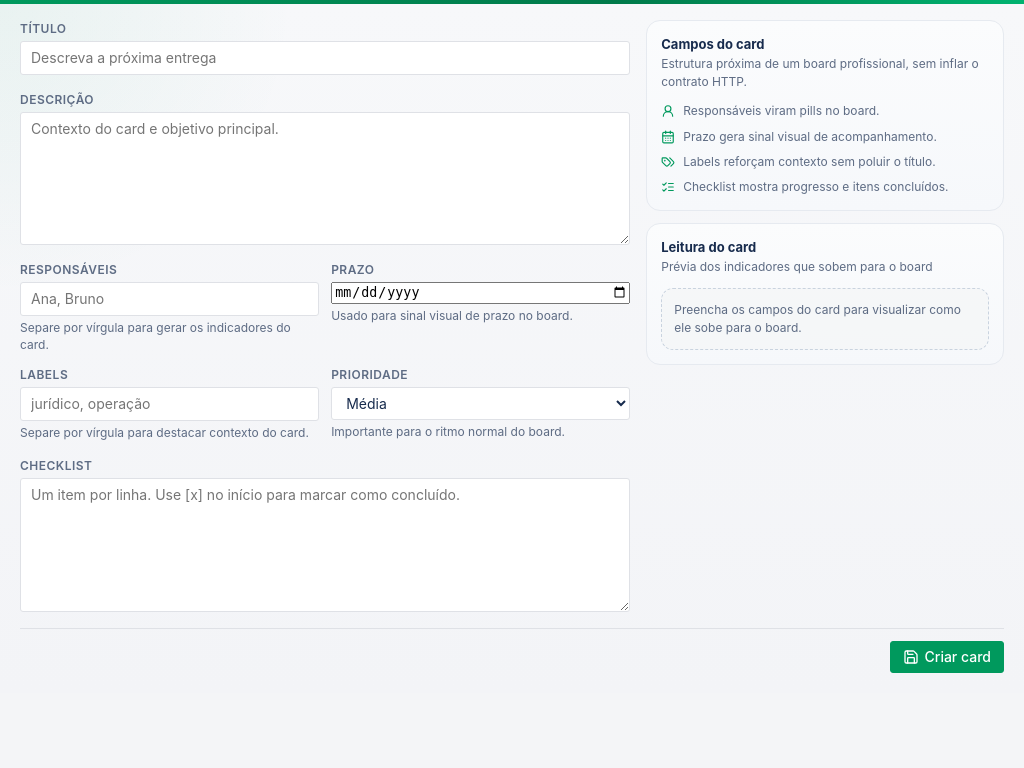
it: TaskComposer › renders the preview even when only deadline and labels are present
Type "2026-04-25" into the date field labelled "Prazo" at coordinates (481, 293), box x1=331 y1=282 x2=630 y2=304
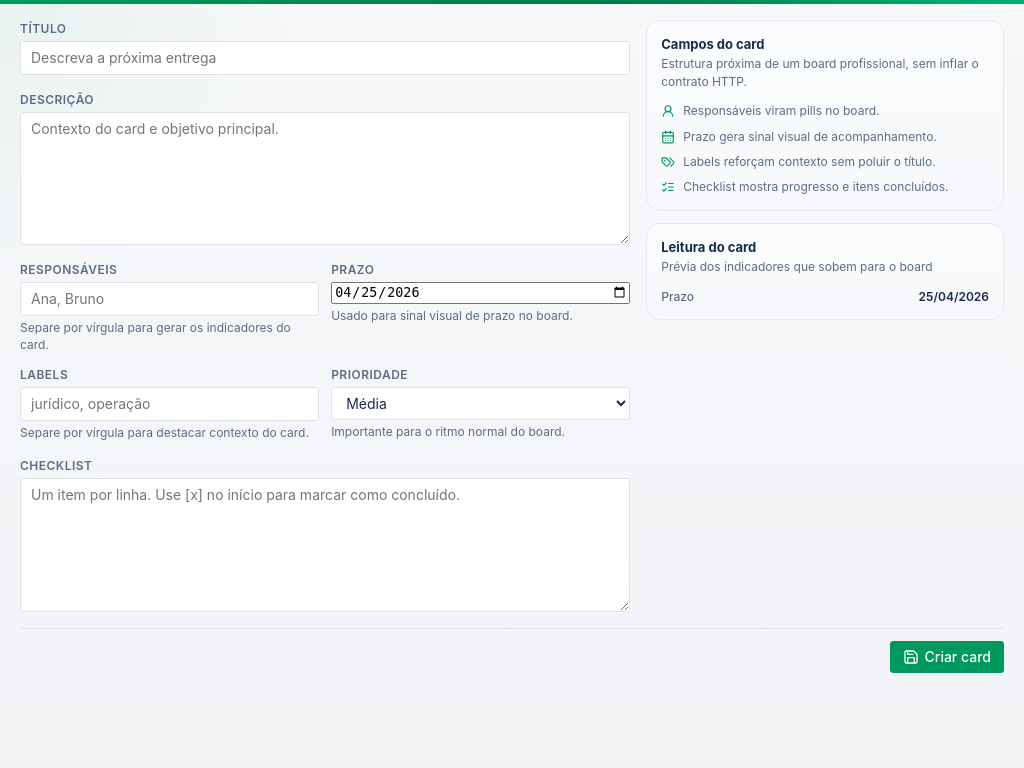
Type "operação" into the field labelled "Labels" at coordinates (170, 404), box x1=20 y1=387 x2=319 y2=421
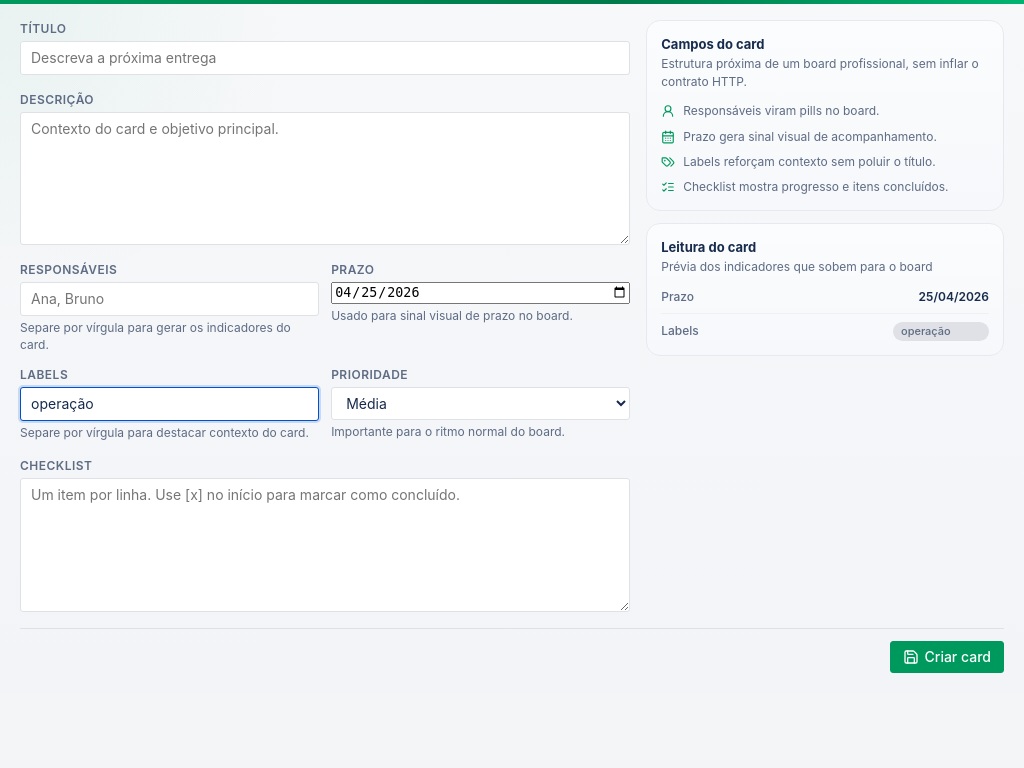
Result: the text "25/04/2026" is shown at x1=919 y1=288 x2=989 y2=305
Result: the text "operação" is shown at x1=893 y1=322 x2=989 y2=341
